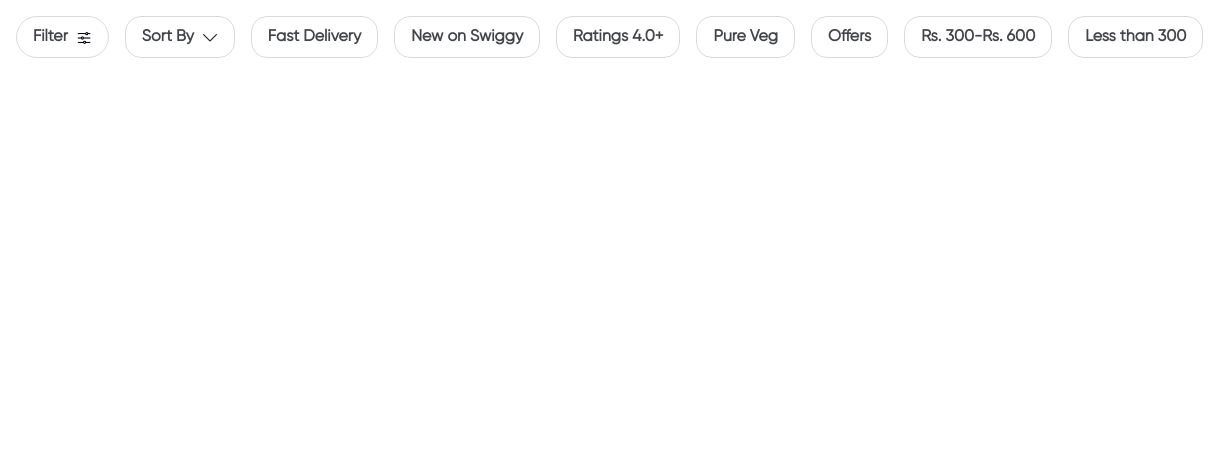
it: FilterSection Component › toggles dropdown visibility
Click the button "Filter": click(62, 37) [16, 16, 109, 58]
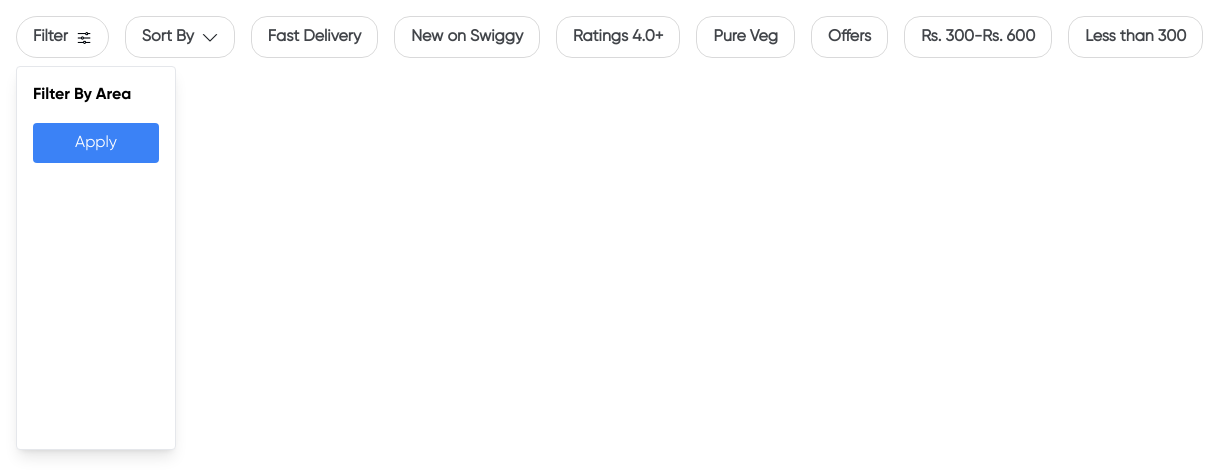
Check: the heading "Filter By Area" is shown, box [33, 87, 131, 103]
Click the button "Filter": click(62, 37) [16, 16, 109, 58]
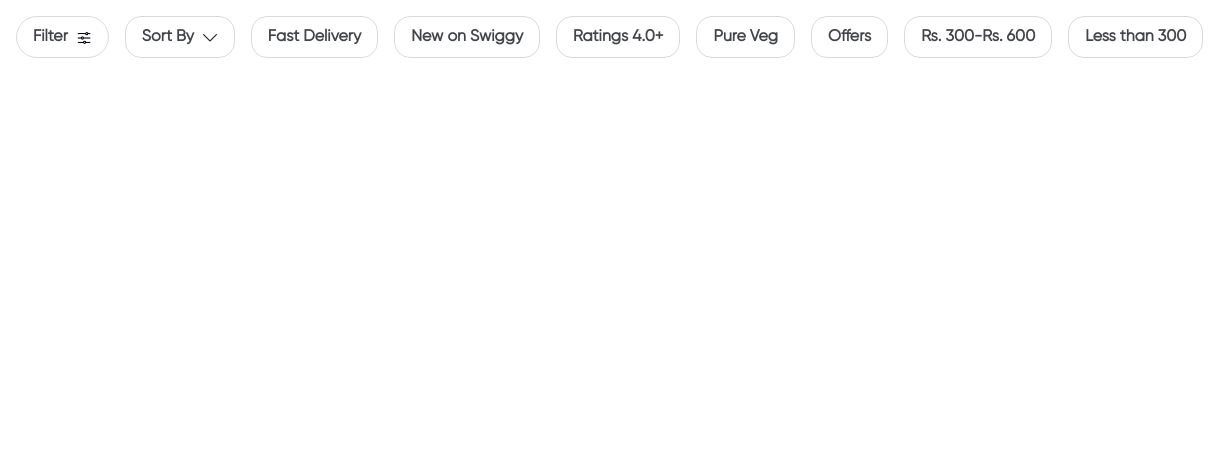
Check: the heading "Filter By Area" is gone
